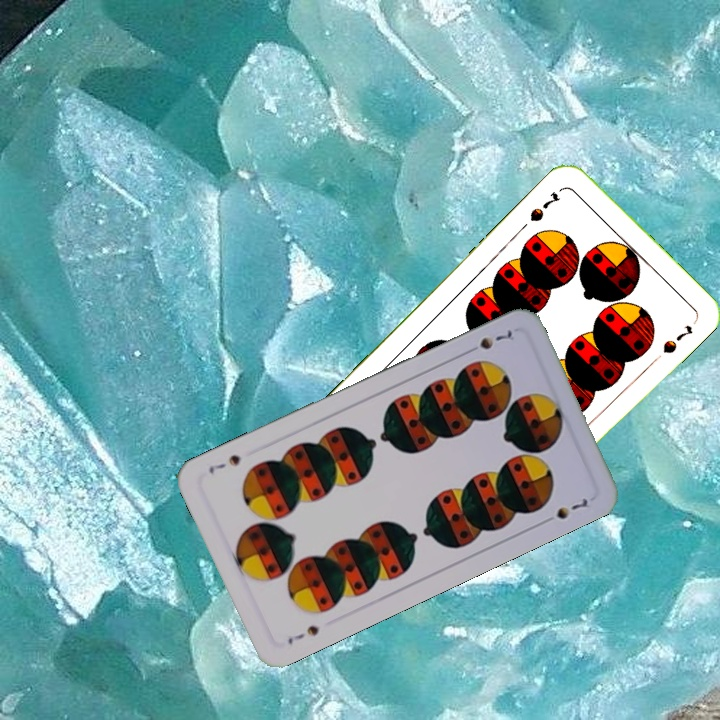S7: (462, 326, 515, 357), (525, 187, 563, 224), (283, 621, 322, 647)
